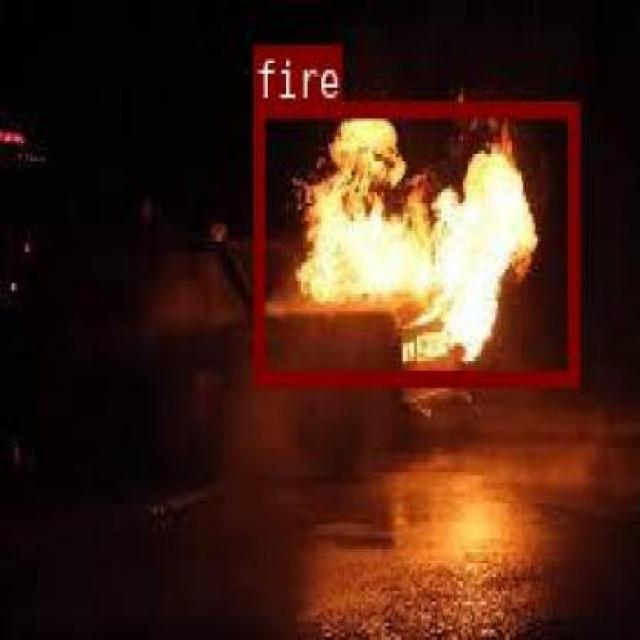Fire: (326, 241, 414, 283)
